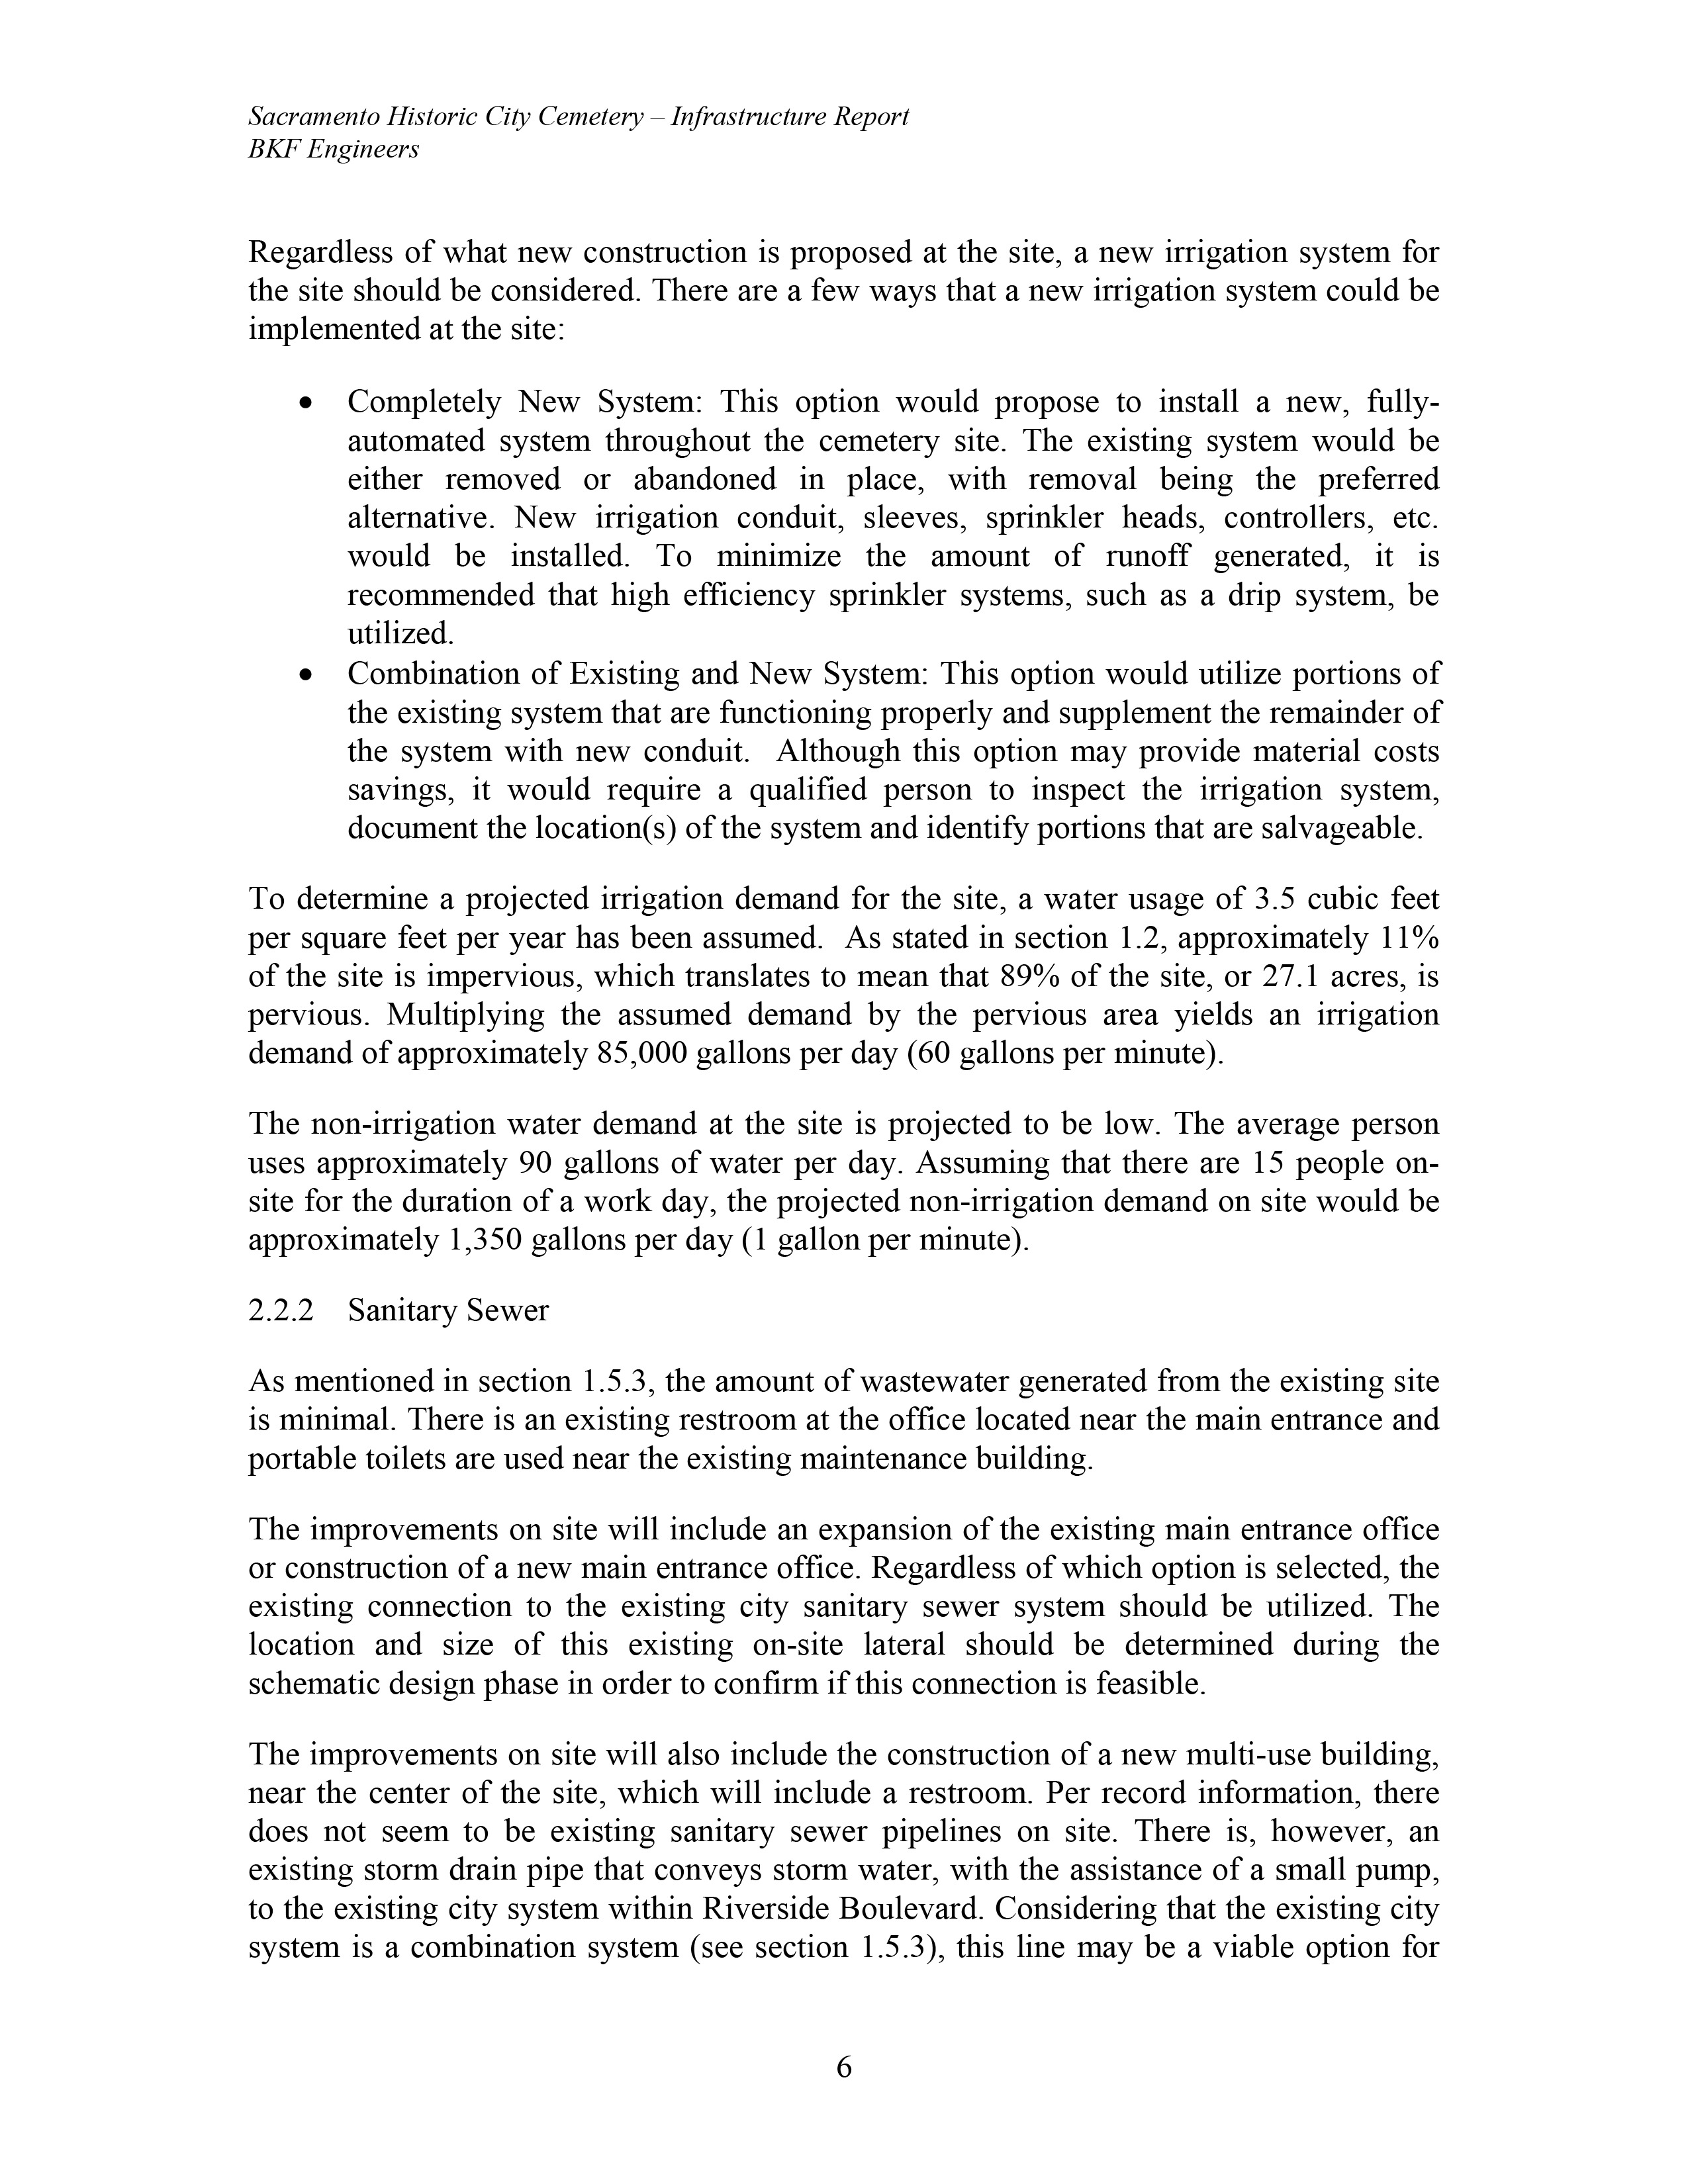list: (280, 376, 1465, 849)
section: (261, 1285, 539, 1324)
text: (241, 1748, 1442, 1978), (227, 872, 1468, 1074), (241, 1510, 1445, 1714), (225, 1103, 1468, 1292), (248, 211, 1450, 353), (250, 1347, 1438, 1477)
